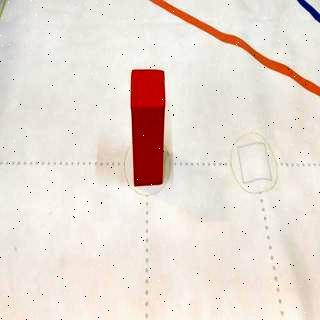redbox: (129, 68, 167, 187)
